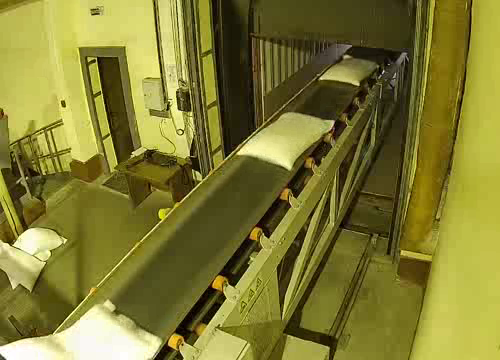bag: (0, 294, 168, 360), (232, 109, 337, 174), (318, 53, 383, 88)
